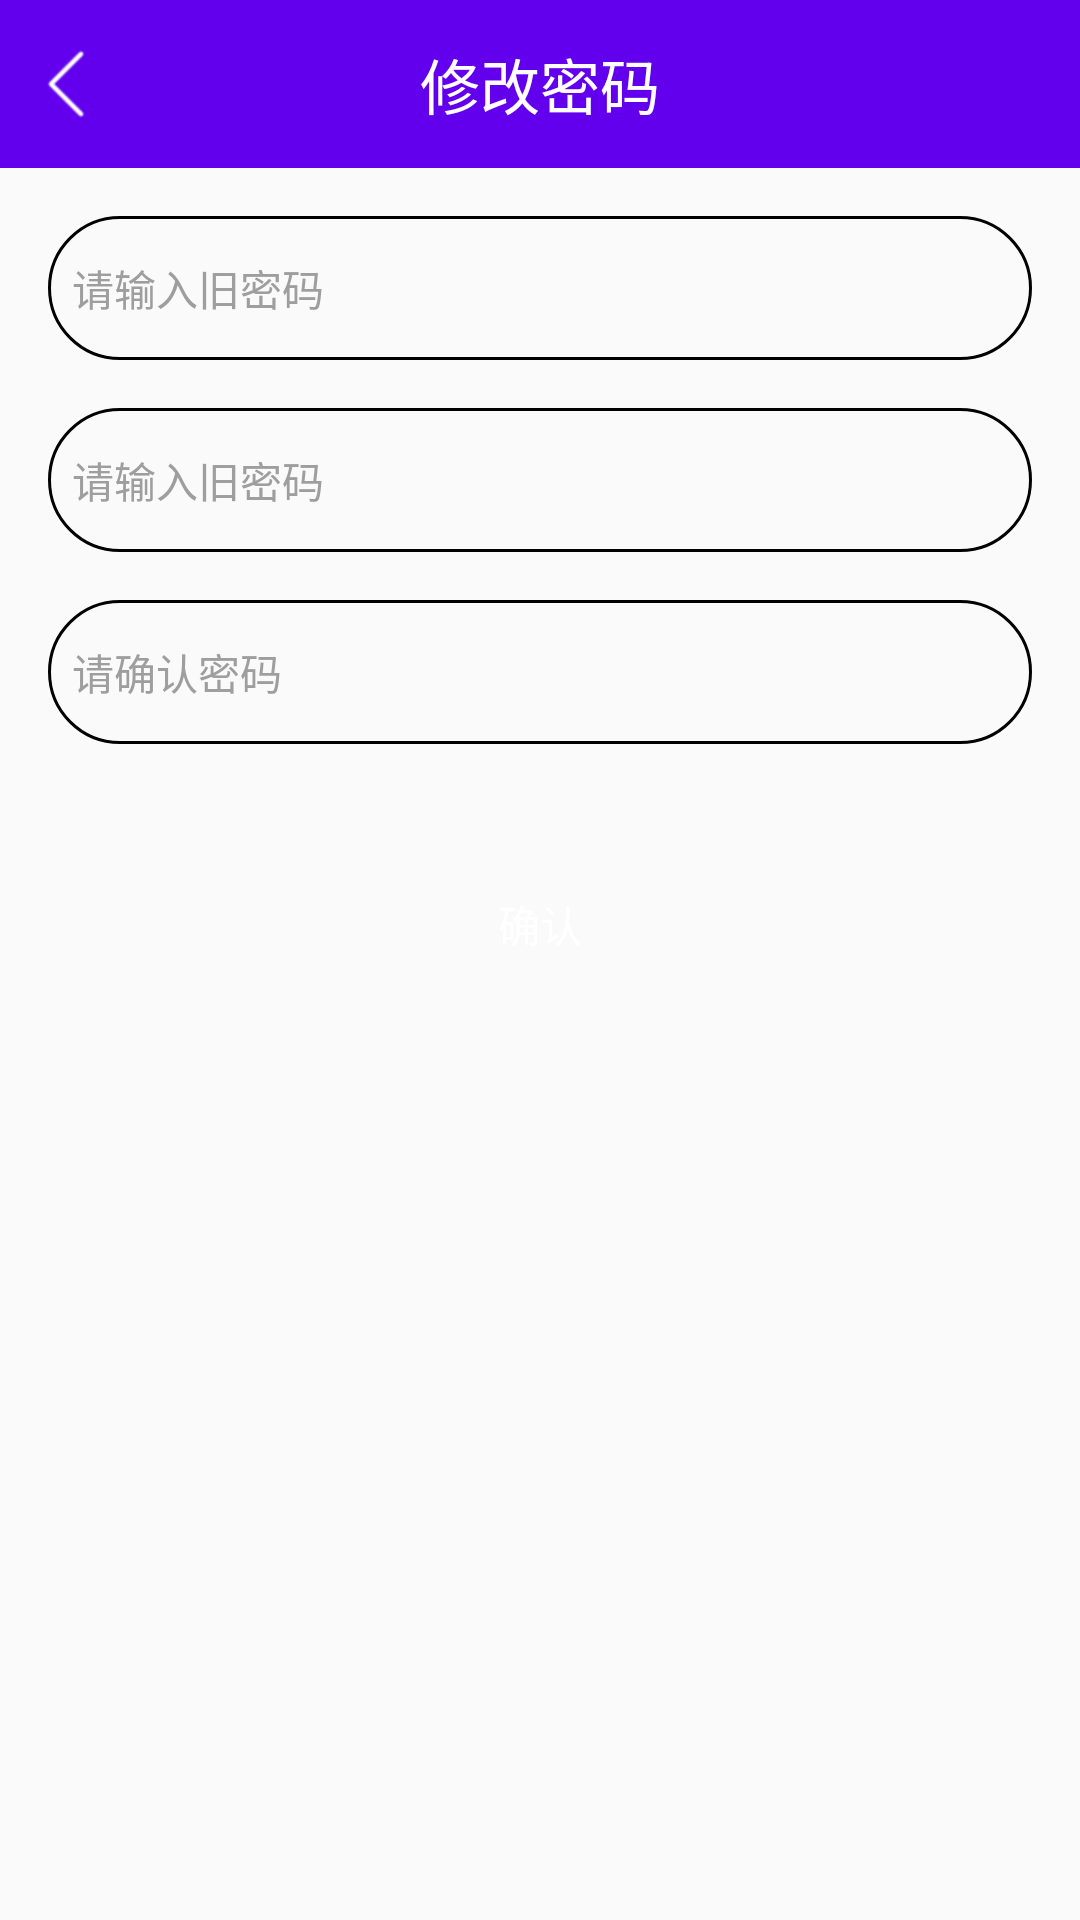

Screen size 1080 x 1920. Icon name, then its box in pixels as (x1, y1, x2, y2):
arrow left: (48, 51, 84, 117)
